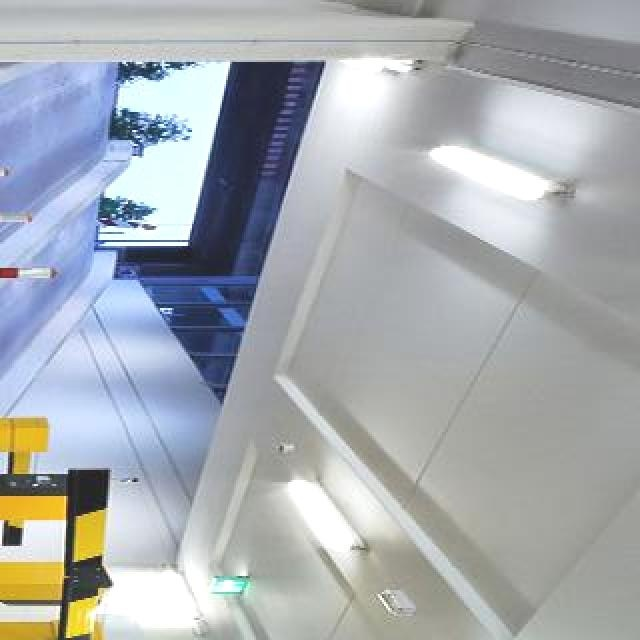fluorescent tube: (400, 125, 596, 233), (262, 460, 371, 565)
